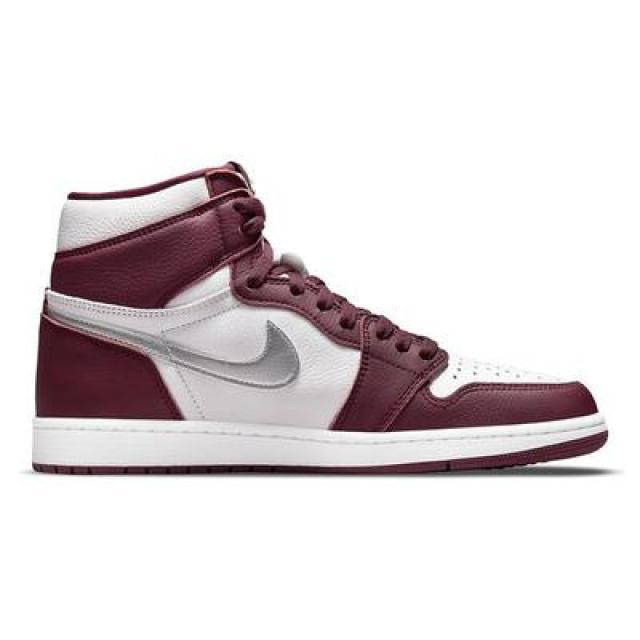J1_InsoleChar: (28, 159, 610, 477)
J1_StitchPattern: (40, 252, 443, 385), (232, 249, 577, 400), (28, 411, 609, 475), (39, 286, 301, 392), (232, 249, 440, 367), (238, 257, 367, 345), (428, 349, 575, 399), (257, 261, 349, 318), (31, 460, 282, 477), (360, 311, 439, 364), (445, 352, 543, 384)
